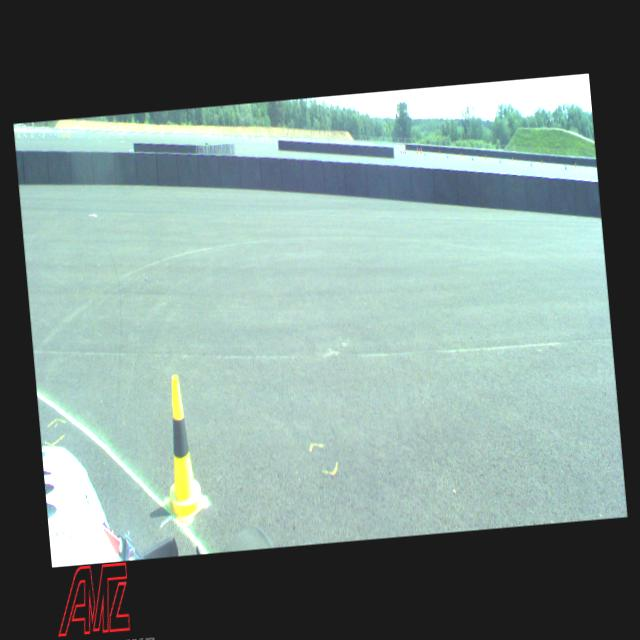yellow_cone: (154, 373, 206, 523)
